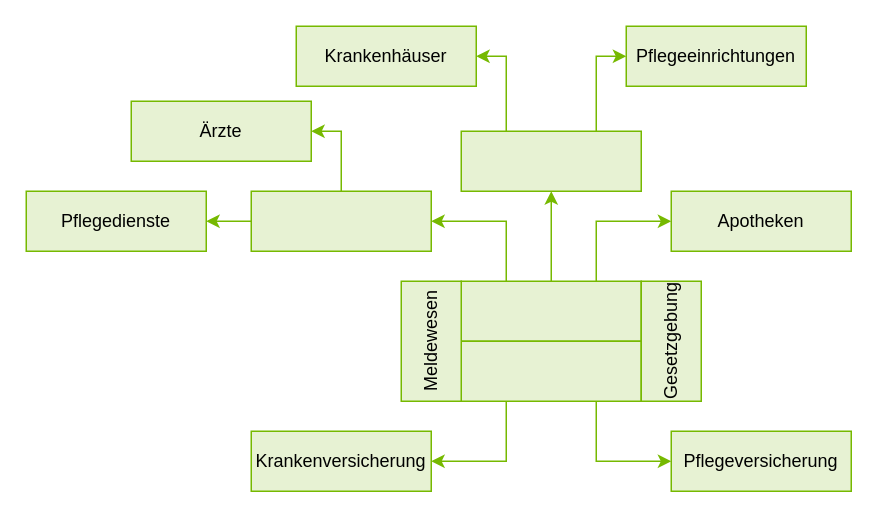
This 878x518 diagram has some shape labels left out. Here are the shapes that lost their labels. From the top down, the centre of each, then its label:
At (550,160): "Stationär".
At (340,220): "Ambulant".
At (550,310): "Versorgung".
At (550,370): "Finanzierung".
